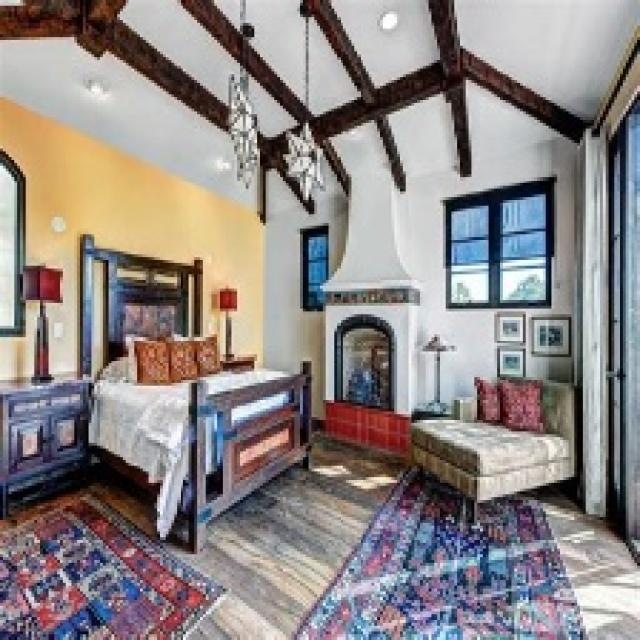Bed: (77, 232, 312, 552)
